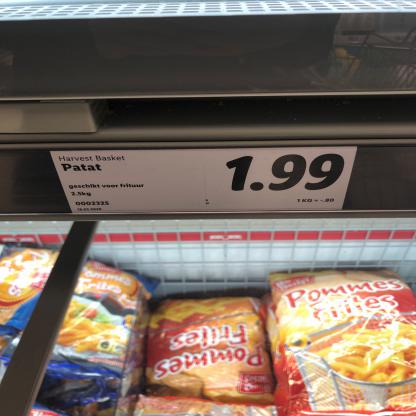prtg: (51, 147, 359, 214)
